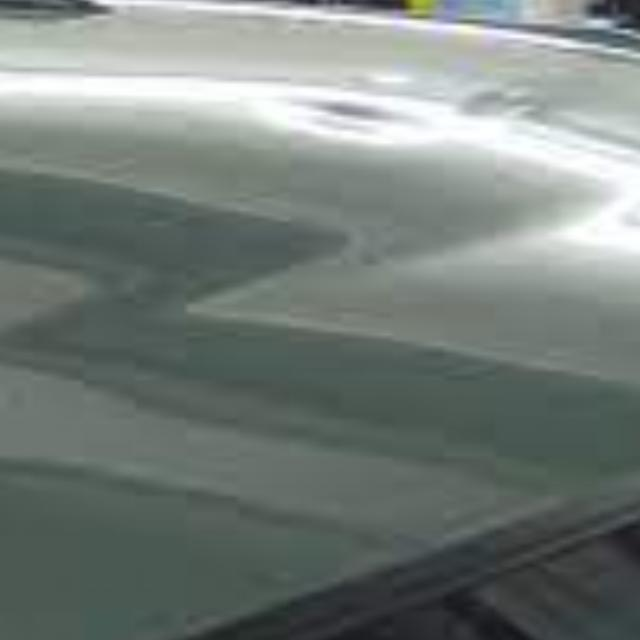dents: (297, 81, 445, 171)
